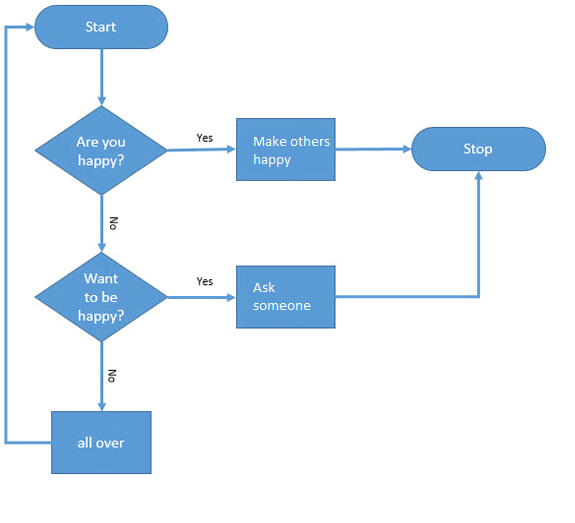arrow: (1, 19, 59, 448), (333, 173, 485, 302), (333, 142, 416, 157), (93, 41, 110, 106), (160, 141, 236, 155), (95, 336, 109, 411), (162, 290, 239, 303), (95, 192, 107, 251)
decision: (31, 250, 171, 345), (31, 103, 171, 196)
process: (232, 261, 339, 332), (47, 408, 155, 478), (232, 115, 339, 185)
terminator: (408, 124, 550, 176), (32, 2, 170, 53)
text: (75, 271, 127, 328), (250, 133, 331, 169), (250, 278, 311, 315), (73, 131, 127, 172), (74, 433, 130, 453), (461, 138, 494, 161), (81, 15, 117, 35), (105, 363, 120, 386), (193, 273, 215, 288), (193, 131, 213, 144), (106, 211, 117, 232)
